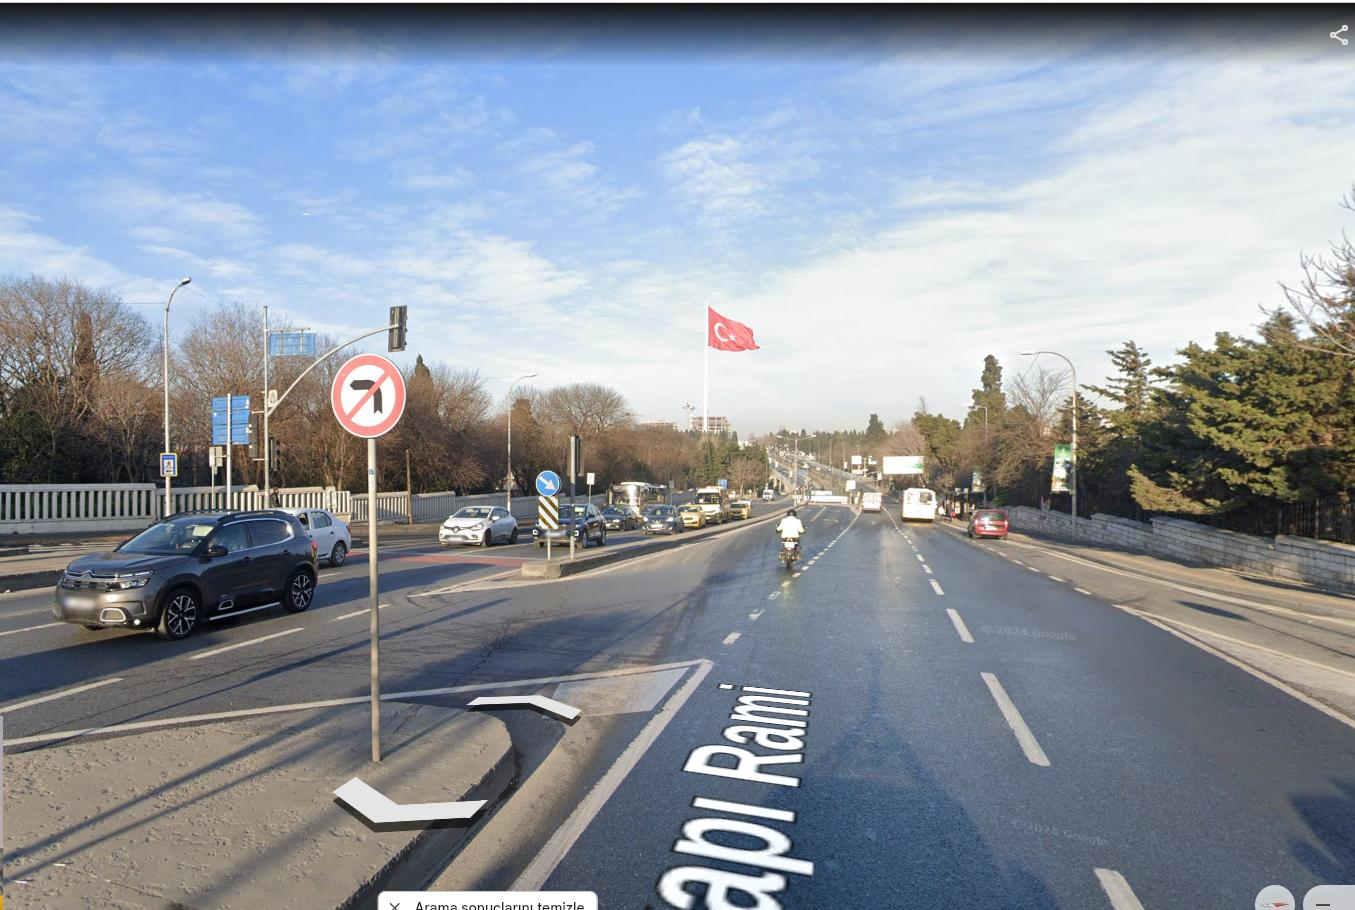leftturnsareforbidden: (334, 355, 403, 434)
